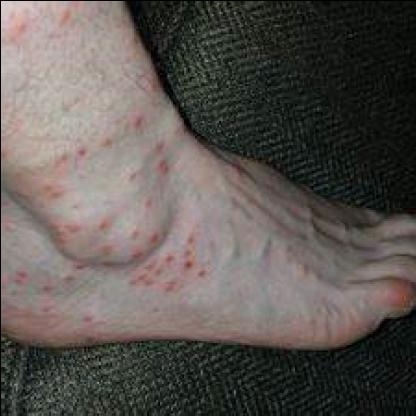Fire ant: (98, 214, 216, 294), (7, 1, 85, 39), (2, 172, 68, 207), (44, 212, 84, 244), (2, 261, 30, 301), (115, 4, 142, 44), (53, 139, 89, 168), (382, 277, 415, 306), (176, 122, 212, 146), (61, 256, 89, 284), (152, 135, 172, 174), (38, 276, 58, 312), (126, 104, 150, 132), (82, 305, 100, 342), (224, 159, 250, 179), (118, 159, 140, 181), (141, 187, 159, 211), (98, 127, 116, 150), (2, 216, 22, 235), (138, 300, 164, 314), (148, 74, 163, 92), (2, 142, 11, 162)
